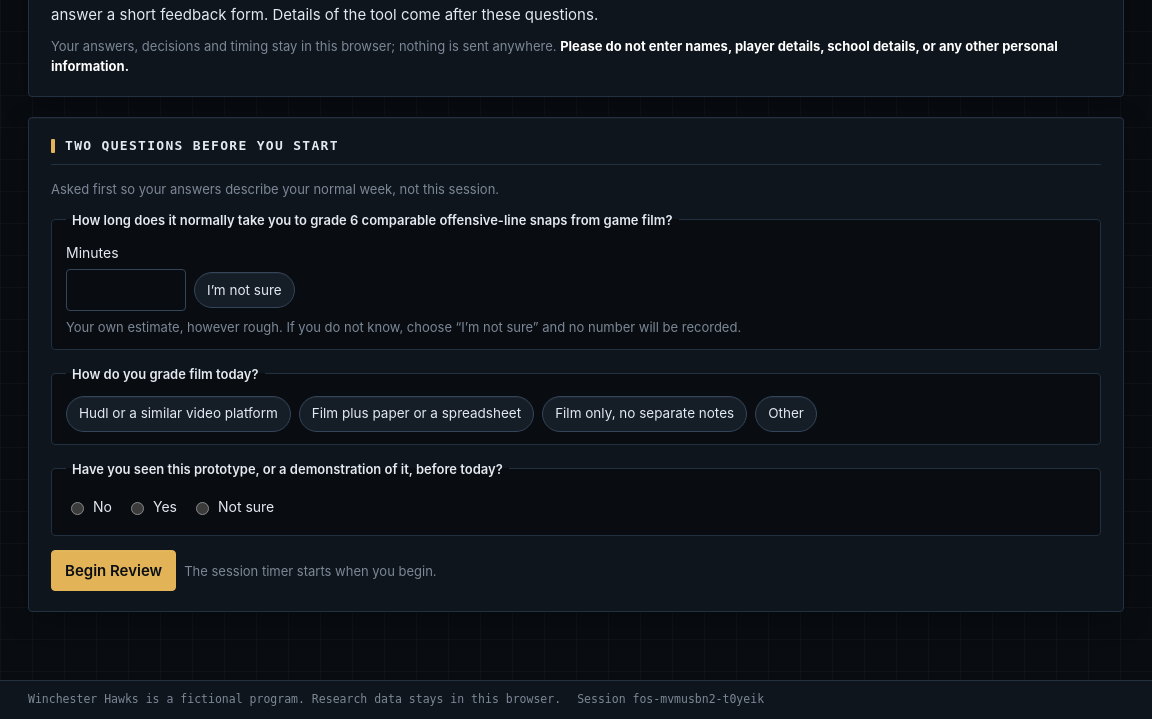
Test: landing page and entry routes › #/research deep link shows the baseline form and keeps the gating
(page scrolled)
Expected: the number field labelled "Minutes" is shown, [66,269,186,311]
Gating is unchanged: Begin Review is blocked until the baseline is complete.
Click the button "Begin Review": x=114, y=571 [51,550,176,591]
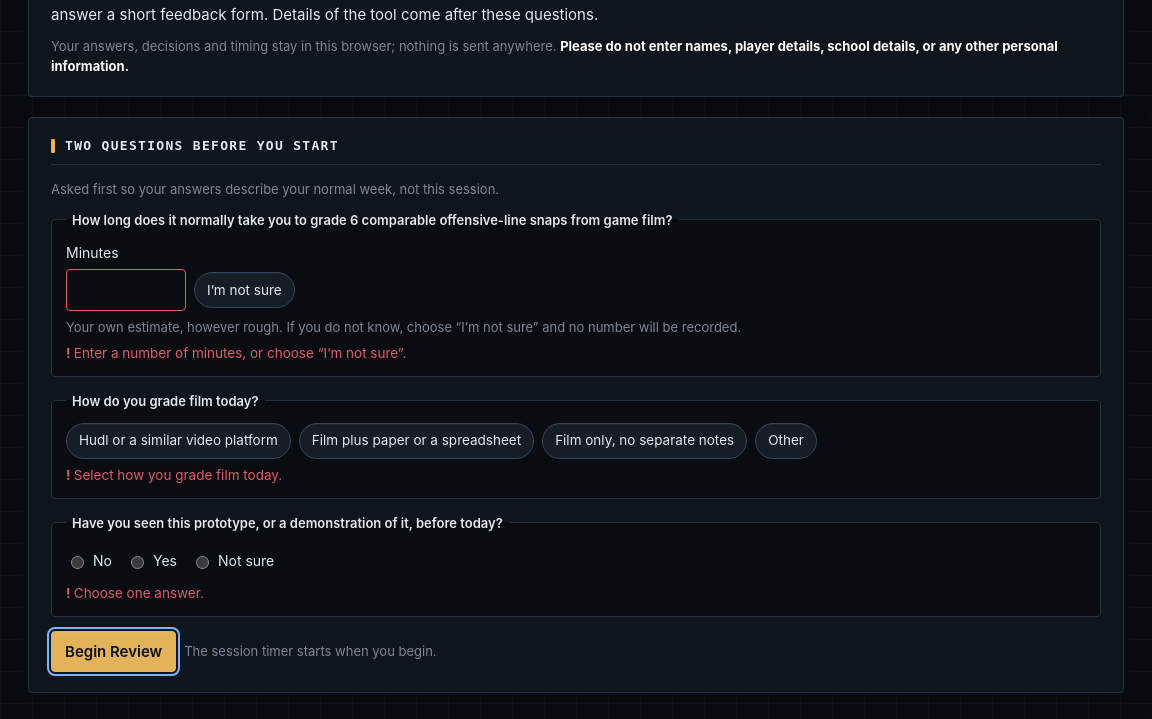
Expected: the message "Enter a number of minutes, or choose “I’m not sure”." is shown, [74,345,406,361]
